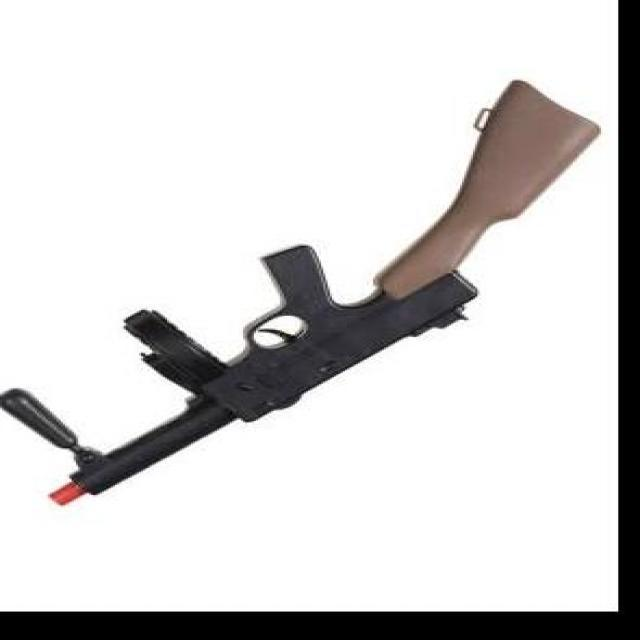weapon: (0, 77, 600, 506)
